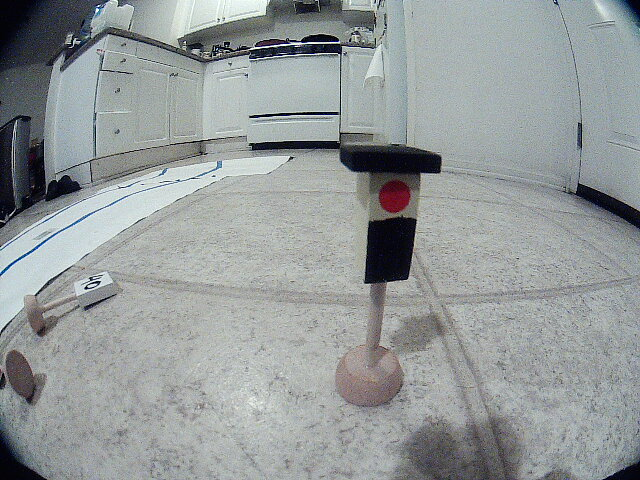Red Traffic Light: (329, 138, 475, 310)
